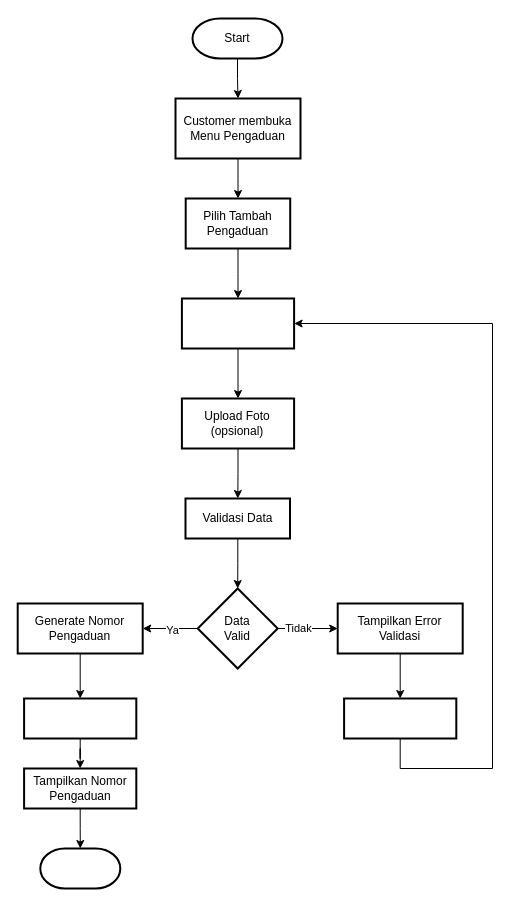
Some shapes in this 519 by 906 pixel diagram are drawn without their labels. Each missing label, with the centre of its shape:
"End" belongs at [80,868].
"Isi Form Pengaduan" belongs at [237,323].
"Kembali ke Form Pengaduan" belongs at [400,718].
"Simpan Data Pengaduan" belongs at [80,718].
